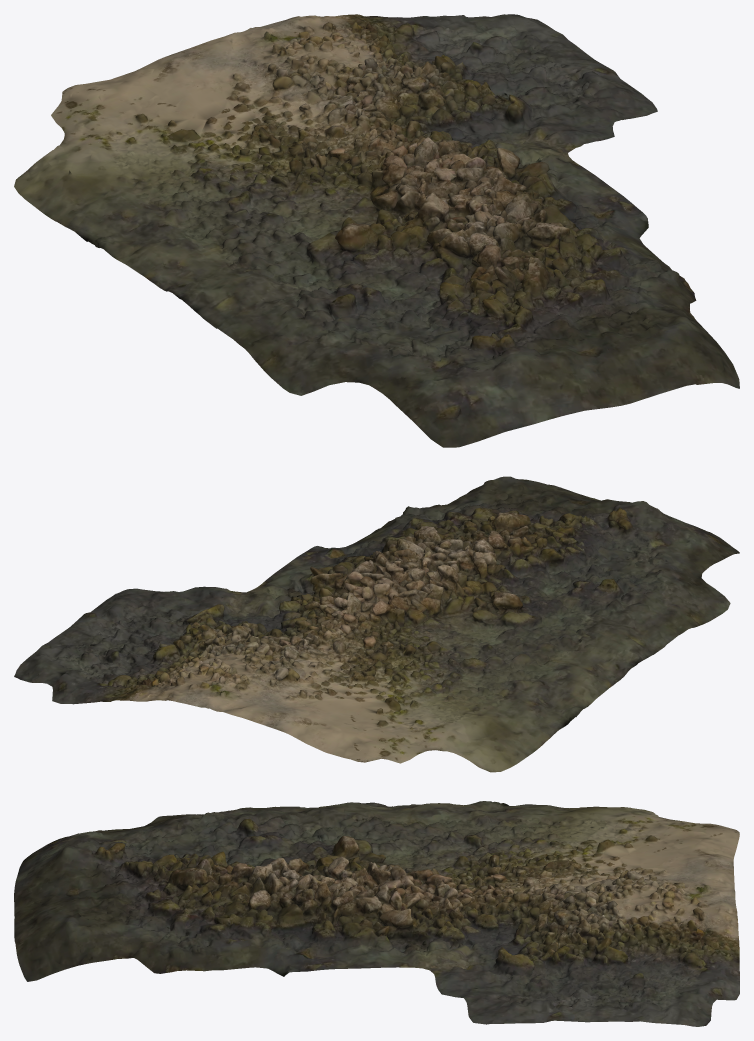
File: hero_coast_rock.glb
The picture shows the model from 3 angles, top to bottom: view 1: azimuth 30°, elevation 25°; view 2: azimuth 150°, elevation 25°; view 3: azimuth 270°, elevation 25°; orthographic projection. The views are drawn at different scales.
Visible parts, largest first — view 1: coast_rocks_03; view 2: coast_rocks_03; view 3: coast_rocks_03.
Boxes of the visible parts, x1,y1,x2,y2 form: coast_rocks_03: (14, 14, 739, 447); coast_rocks_03: (14, 476, 739, 772); coast_rocks_03: (14, 801, 739, 1026).
Bounding box in the file's own units: 21.12 × 3.2 × 28.27.
1 material, 1 textured.
